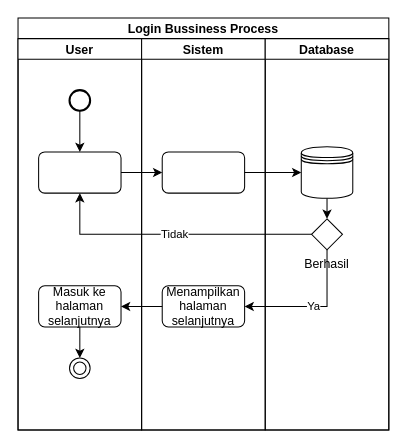
Some shapes in this 407 by 448 pixel diagram are drawn without their labels. The centre of each missing label's shape, as x and y in pixels:
"Masuk ke bagian database" goes at (x=203, y=172).
"Memasukkan data" goes at (x=79, y=172).
"Membaca data" goes at (x=326, y=172).
